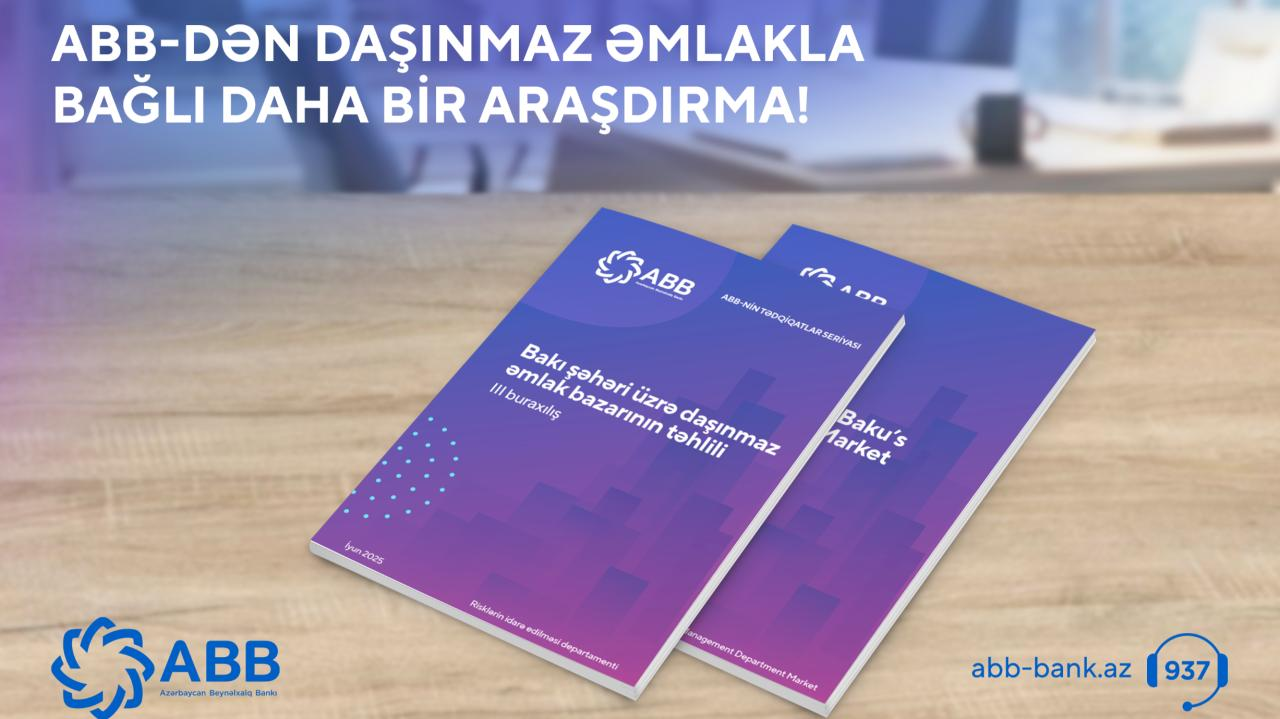ABB: (47, 613, 154, 719), (594, 247, 647, 288)
